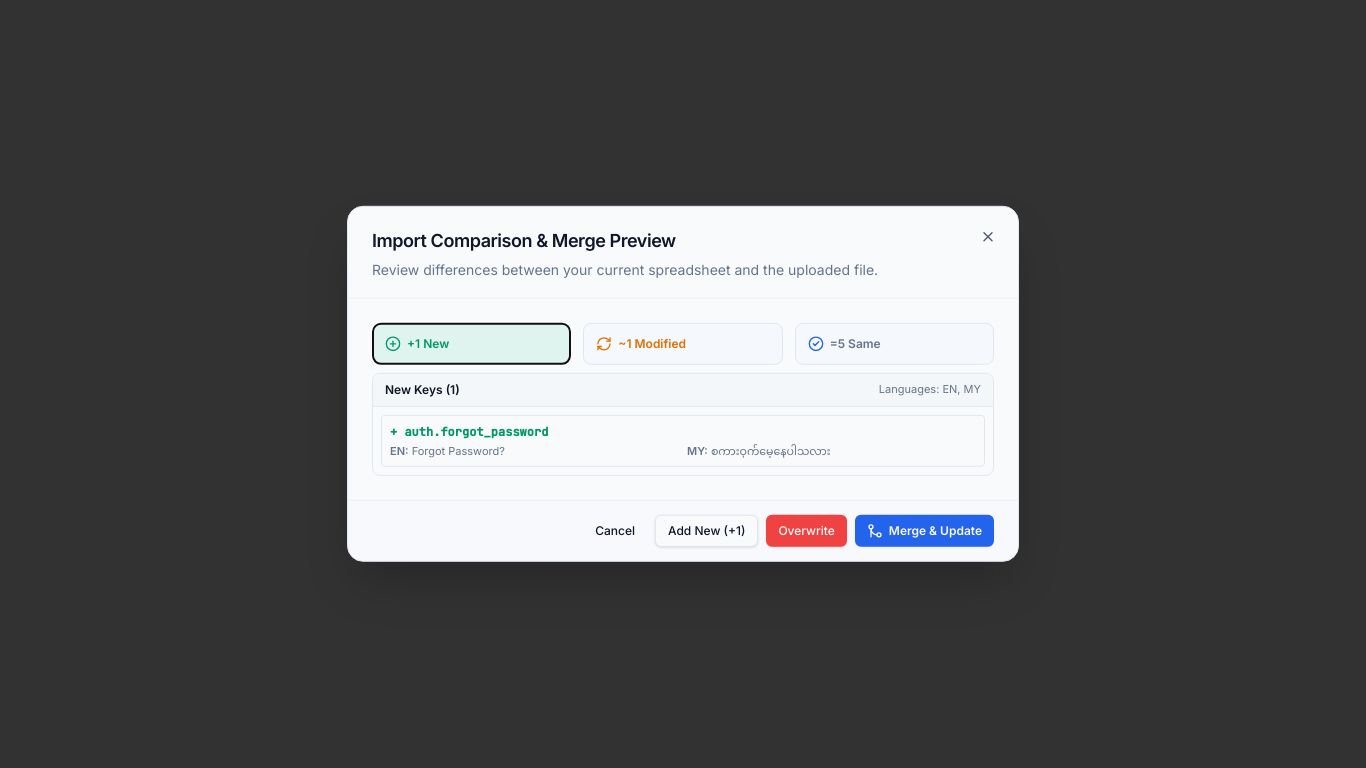
Test case: DiffMergeModal › switches between new and modified tabs
Expected: the text "+ auth.forgot_password" is shown, [390, 424, 548, 440]
// Click on modified tab card
Click the button "Altered translations".
click(683, 344)  # box [583, 322, 783, 364]
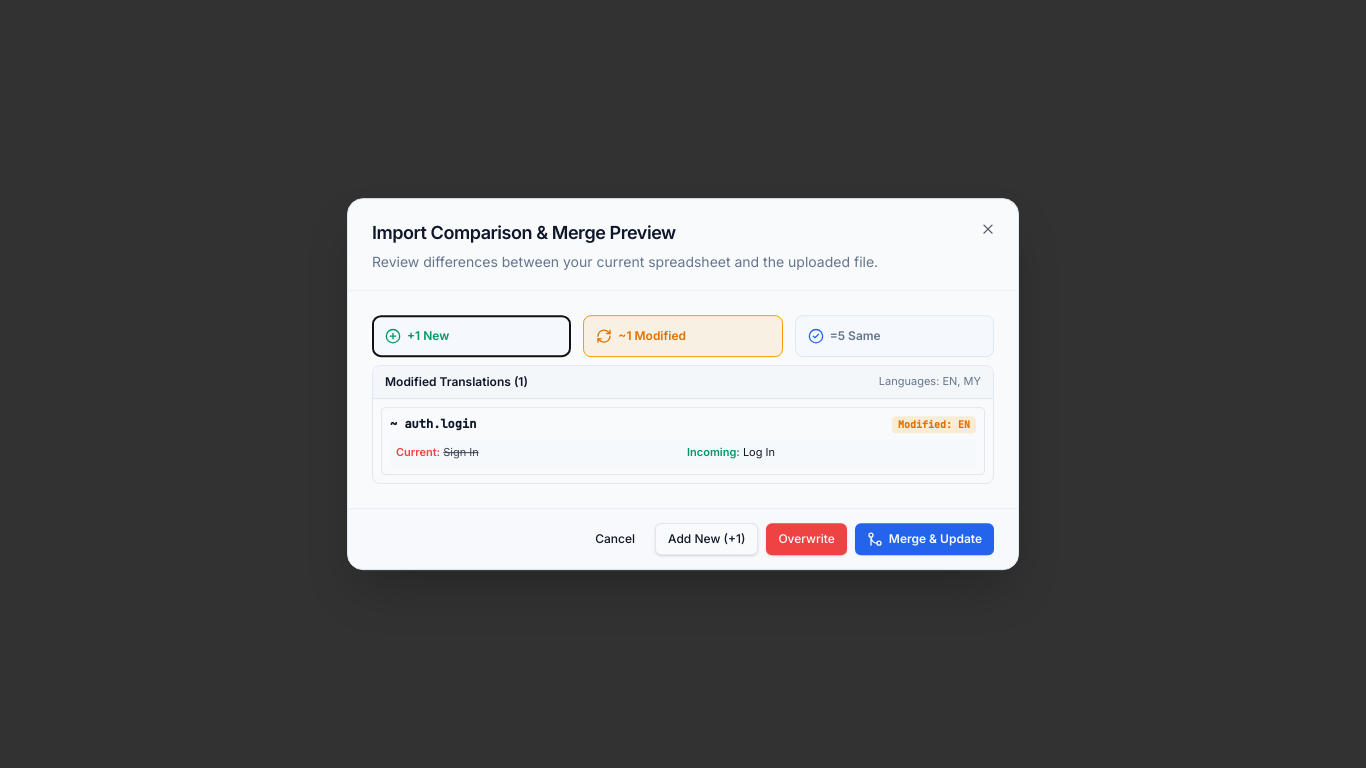
Now the text "~ auth.login" is shown, box [390, 416, 476, 432]
Now the text "Sign In" is shown, box [443, 445, 479, 459]
Now the text "Log In" is shown, box [743, 445, 775, 459]
